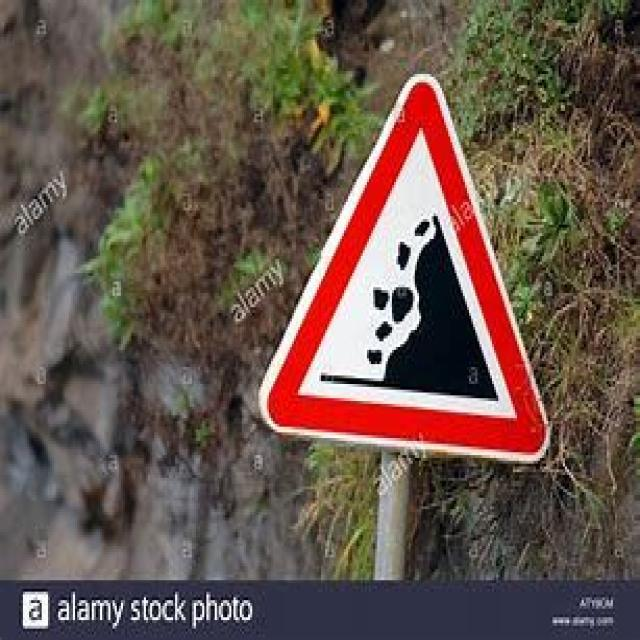falling rocks: (259, 70, 555, 468)
